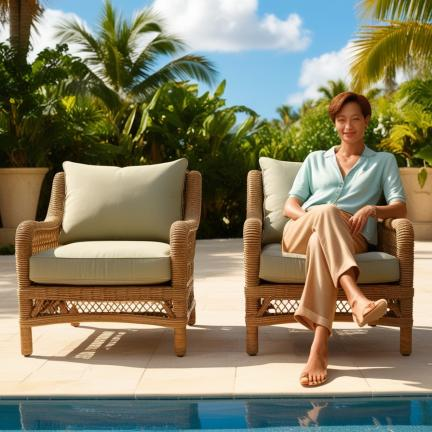empty chair: (16, 159, 202, 356)
guest on chair: (244, 92, 413, 388)
